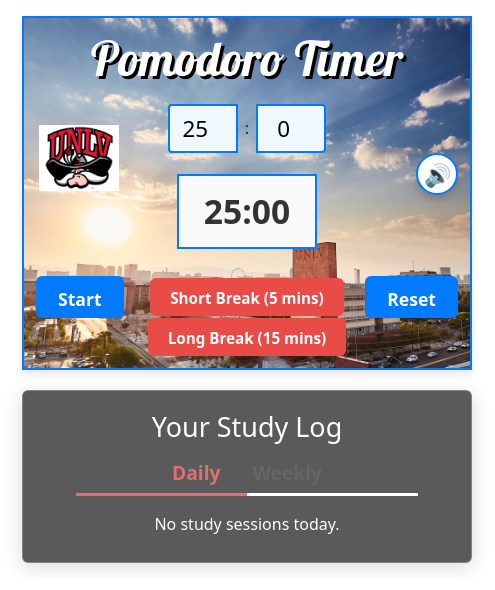
Test: toggles mute state and updates alarmRef
// Click to mute
Click the button "🔊": (437, 174) [416,153,458,195]
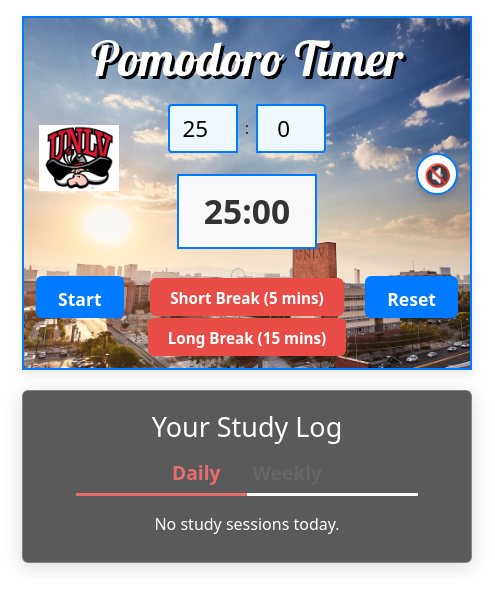
Expected: the button named "🔊" reads "🔇"
// Click to unmute
Click the button named "🔊": (437, 174) [416,153,458,195]
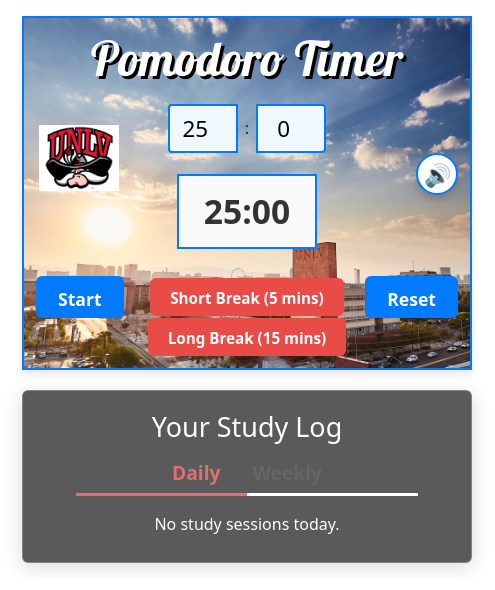
Expected: the button "🔊" is shown, [416,153,458,195]
